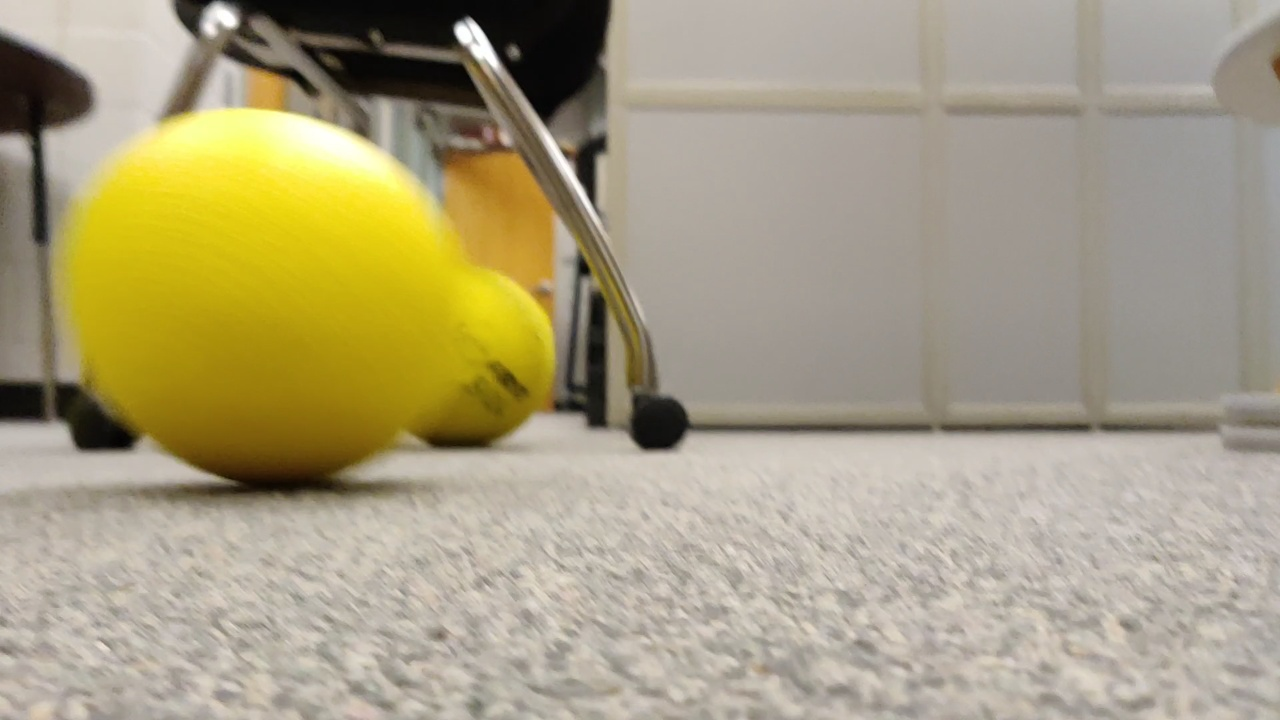Ball: (63, 112, 447, 476), (392, 269, 551, 459)
